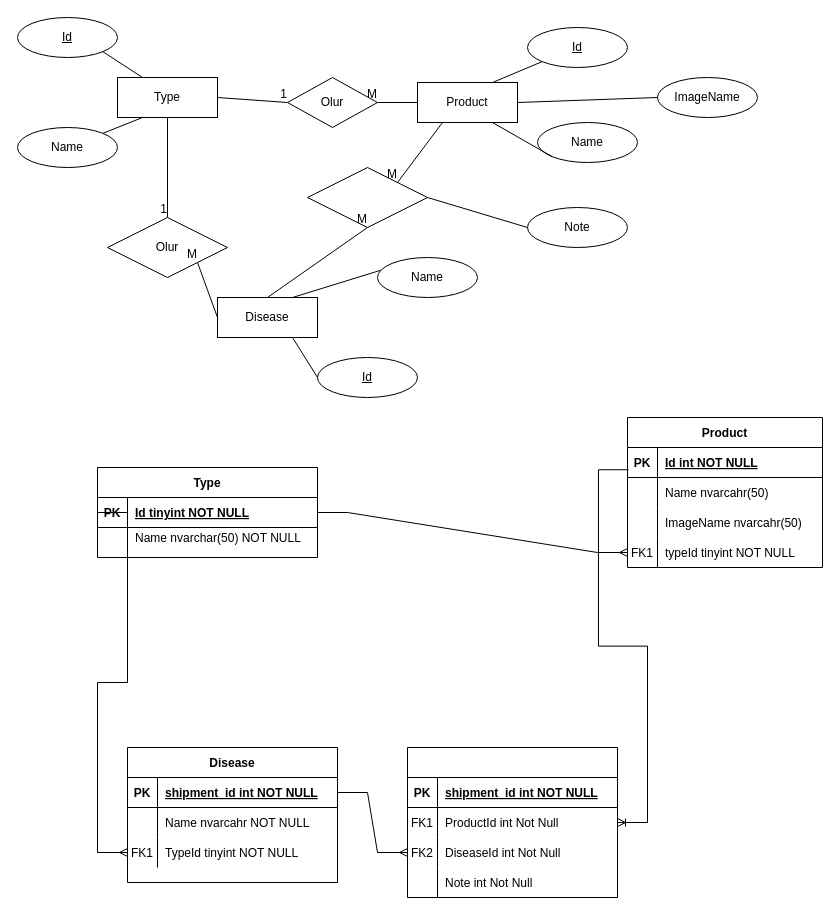
This 840x915 diagram has some shape labels left out. The shapes that lost their labels are listed below. From the top down, each one's box as (x1, y1, x2, y2) in pixels, then its label:
(306, 166, 428, 228): Relationship
(406, 746, 618, 898): ProductDisease
